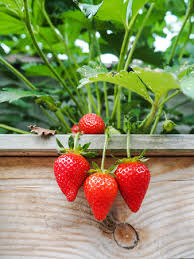ripe: (51, 150, 88, 205), (83, 170, 119, 221), (117, 158, 149, 212), (78, 112, 106, 135)
